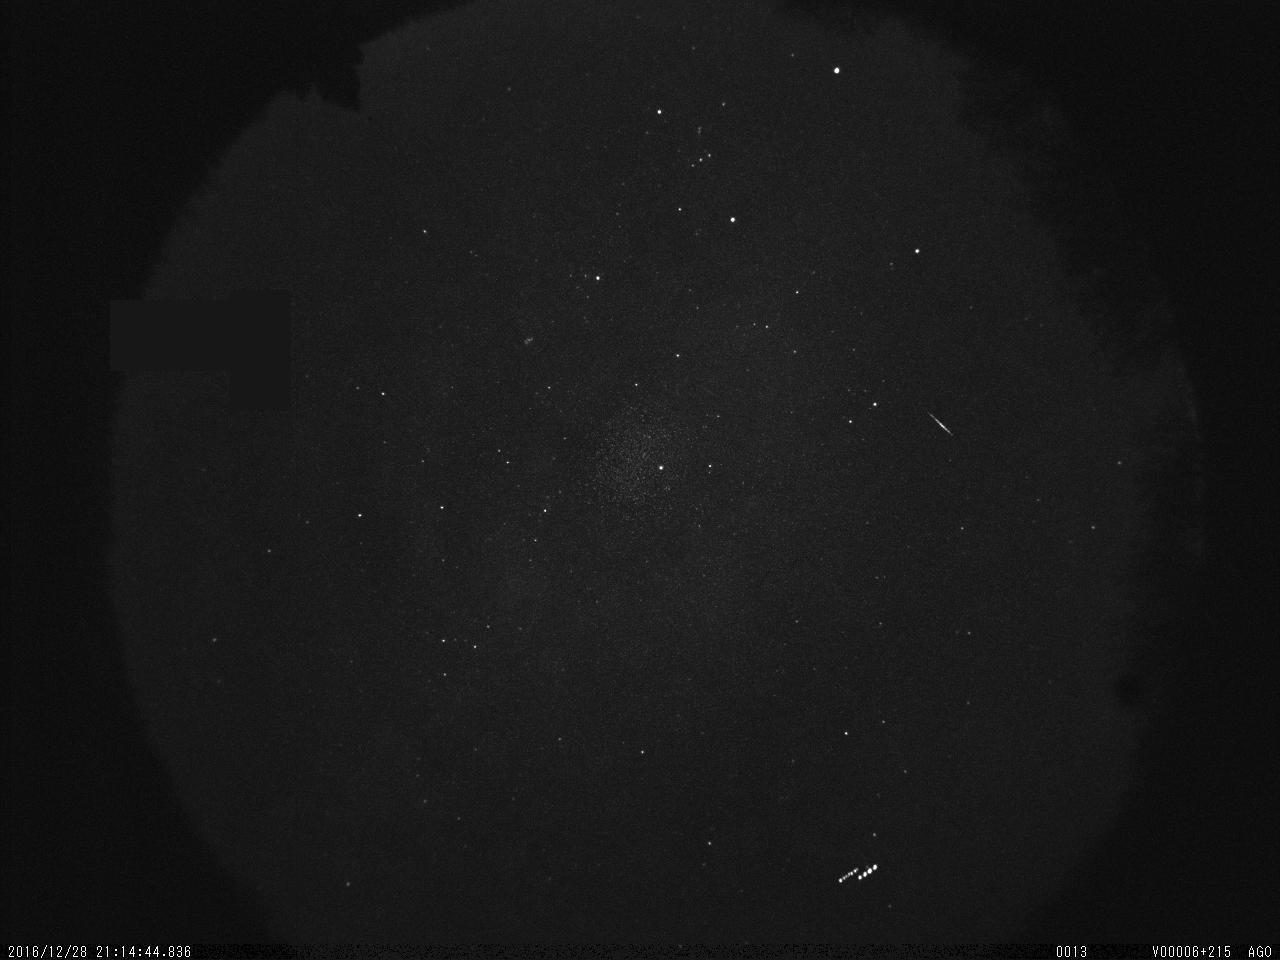Meteor: (926, 407, 955, 435)
